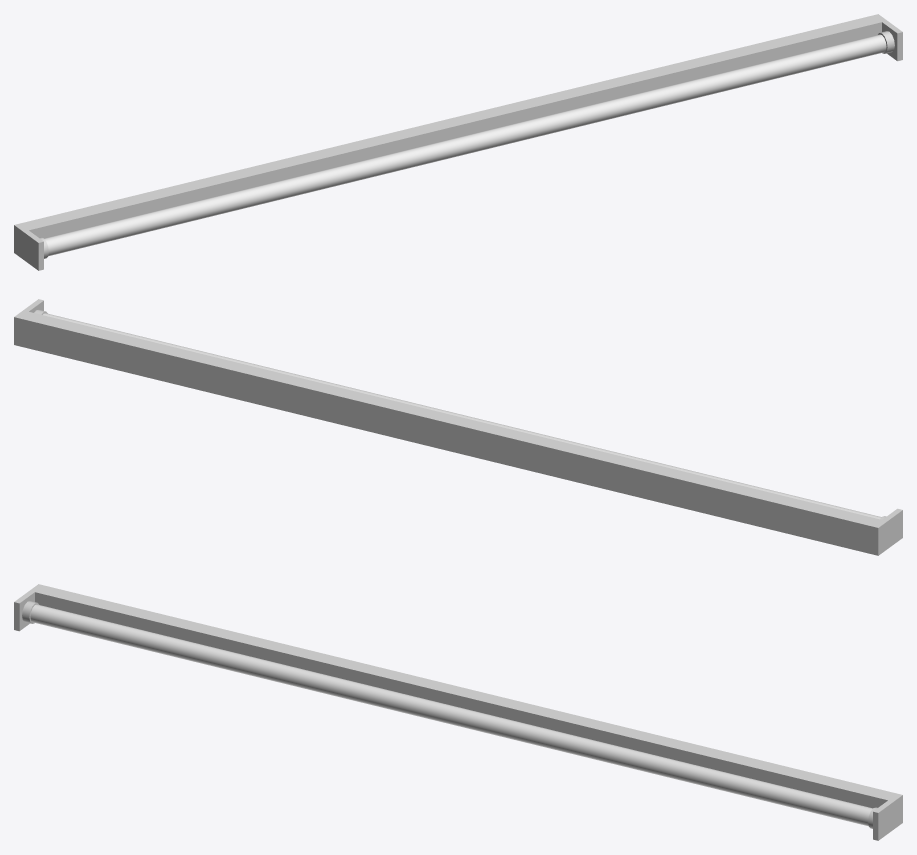
The model's file is Wall_Lamp.fbx.
3 renders of one model, top to bottom at view 1: azimuth 30°, elevation 25°; view 2: azimuth 150°, elevation 25°; view 3: azimuth 330°, elevation 25°, orthographic.
Parts seen in each view (by area): view 1: Wall_Lamp; view 2: Wall_Lamp; view 3: Wall_Lamp.
Boxes of the visible parts, x1=… form: Wall_Lamp: x1=14, y1=14, x2=902, y2=270; Wall_Lamp: x1=14, y1=299, x2=902, y2=555; Wall_Lamp: x1=14, y1=584, x2=902, y2=840.
Bounding box in the file's own units: 81.08 × 2.5 × 4.
